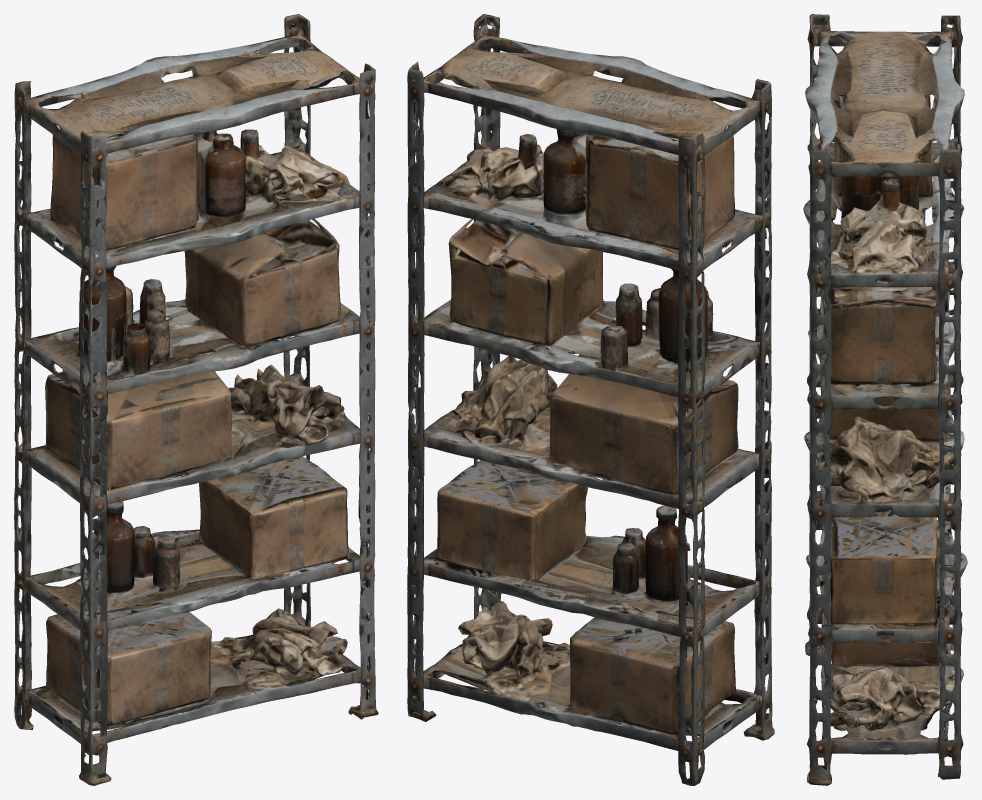
The model's file is MetalShelf.fbx.
3 views of the same model, side by side, from view 1: azimuth 30°, elevation 25°; view 2: azimuth 150°, elevation 25°; view 3: azimuth 270°, elevation 25° (orthographic). The views are drawn at different scales.
Visible parts, largest first — view 1: texture_mapping; view 2: texture_mapping; view 3: texture_mapping.
Part boxes in pixels (x1=…): texture_mapping: x1=14, y1=14, x2=378, y2=785; texture_mapping: x1=407, y1=14, x2=774, y2=785; texture_mapping: x1=803, y1=14, x2=967, y2=785.
Size of the model in its own units: 0.4761 by 0.2359 by 1.
Materials: 1 (1 with a texture image).
